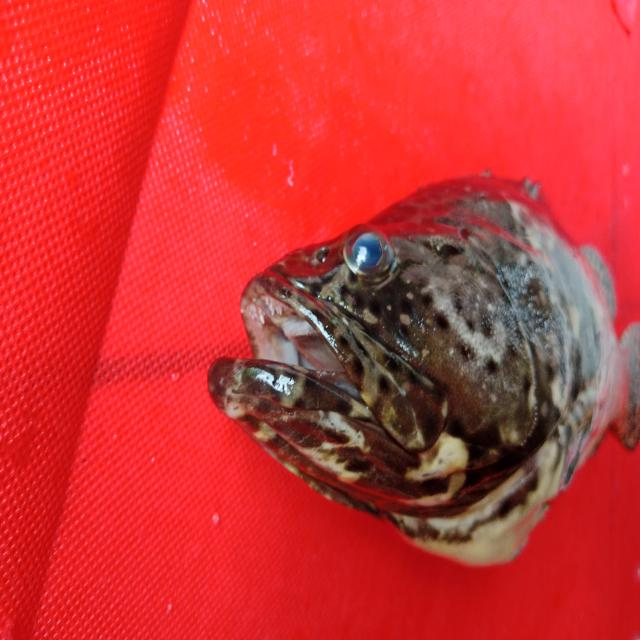ikan: (188, 158, 631, 581)
